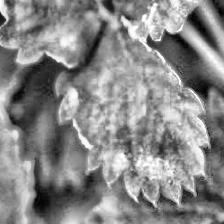Powdery Mildew Leaf: (53, 0, 209, 207), (0, 0, 119, 69), (110, 0, 224, 43)
